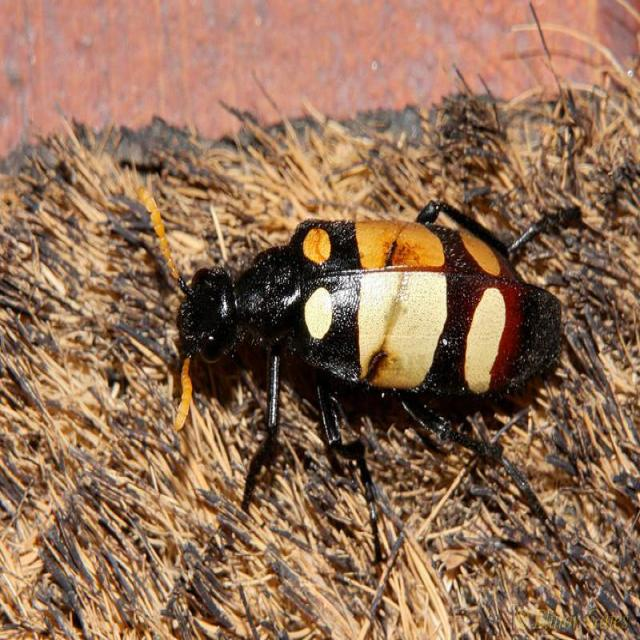BlisterBeetle-Adult-: (100, 160, 561, 528)
